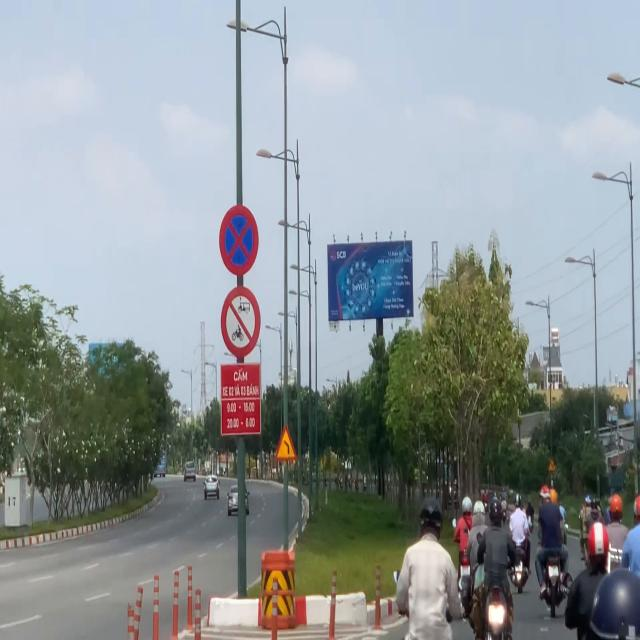Cam con lai: (220, 285, 261, 358)
Cam dung va do: (219, 204, 259, 276)
Nguy hiem: (276, 426, 296, 459), (548, 459, 556, 472)
